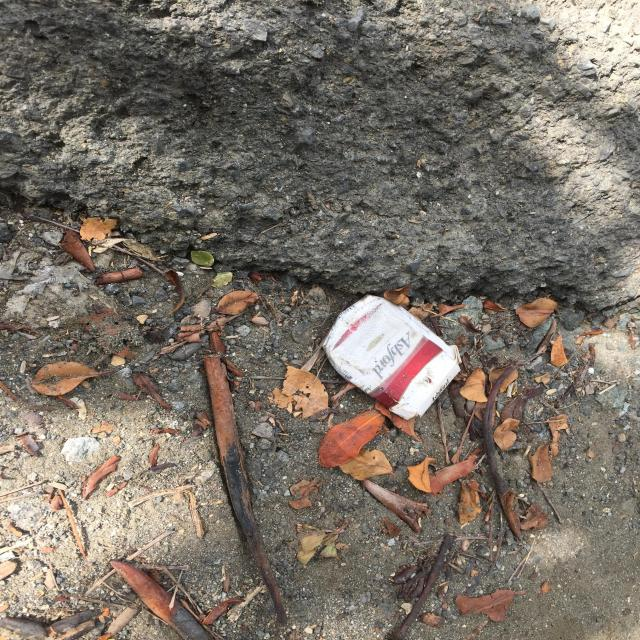litter: (310, 279, 463, 425)
